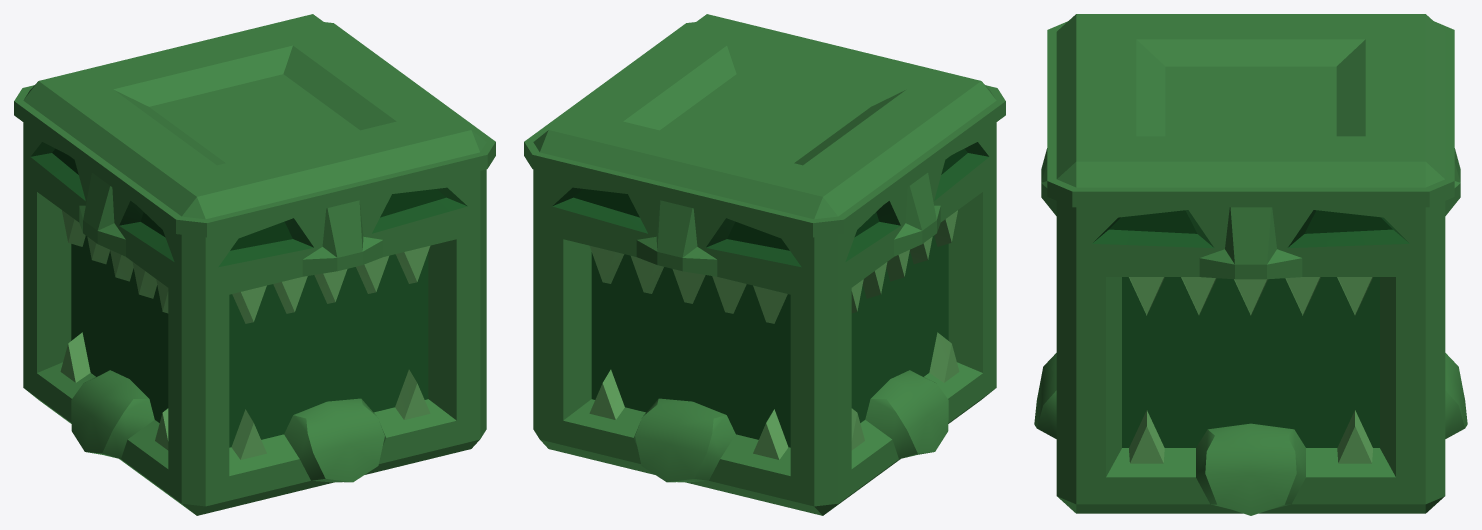
File: m_dec_dung_statueB.fbx
3 renders of one model, left to right at view 1: azimuth 30°, elevation 25°; view 2: azimuth 150°, elevation 25°; view 3: azimuth 270°, elevation 25°, orthographic. The views are drawn at different scales.
Visible parts, largest first — view 1: m_dec_dung_statueB; view 2: m_dec_dung_statueB; view 3: m_dec_dung_statueB.
Boxes of the visible parts, x1=… form: m_dec_dung_statueB: x1=14, y1=14, x2=495, y2=515; m_dec_dung_statueB: x1=524, y1=14, x2=1005, y2=515; m_dec_dung_statueB: x1=1034, y1=14, x2=1467, y2=515.
Size of the model in its own units: 2.23 by 2 by 2.23.
